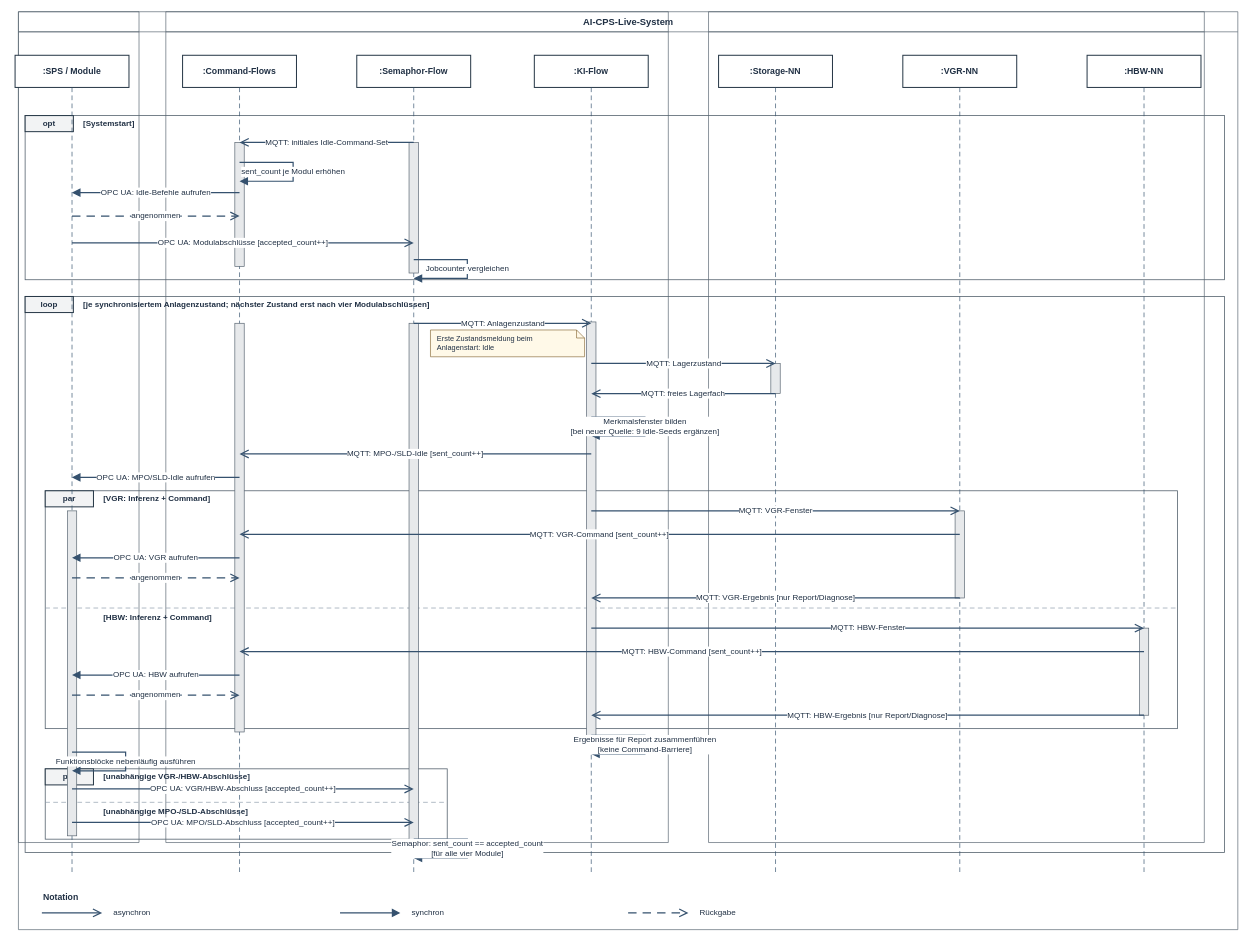
This 1250x941 diagram has some shape labels left out. The box of each missing label's shape, as (x1, y1, x2, y2) in pixels:
NN-Anwendungsdienste: (708, 11, 1204, 843)
Node-RED (Black Box): (165, 11, 668, 843)
Physische Anlage (Black Box): (18, 11, 139, 843)
